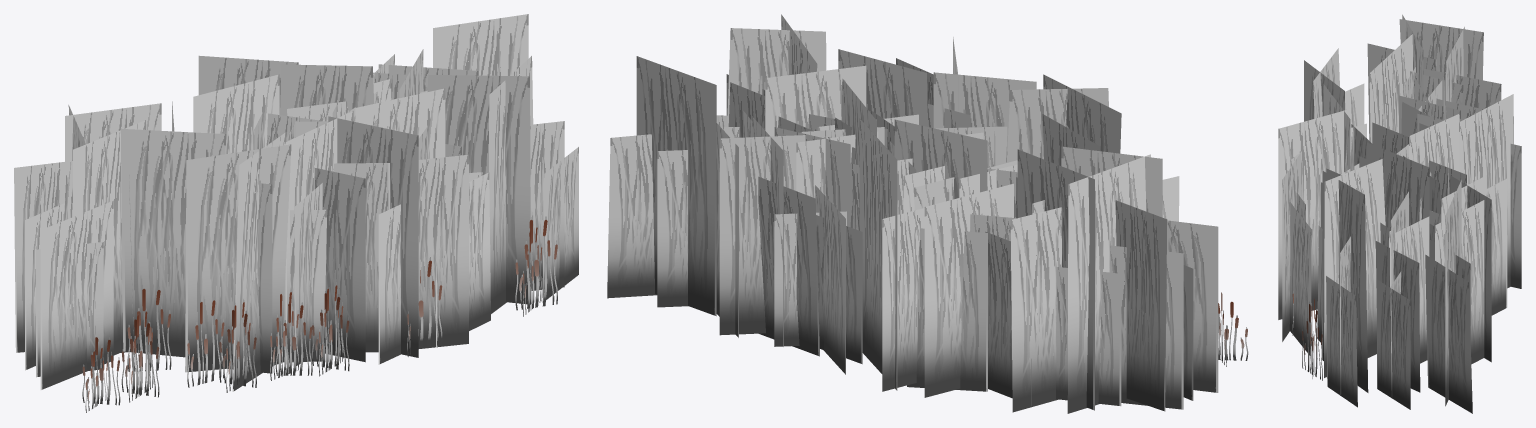
Rendered from Aqua Grass Composition2.fbx.
3 views of the same model, side by side, from view 1: azimuth 30°, elevation 25°; view 2: azimuth 150°, elevation 25°; view 3: azimuth 270°, elevation 25° (orthographic). The views are drawn at different scales.
Visible parts, largest first — view 1: Aqua Grass Composition2; view 2: Aqua Grass Composition2; view 3: Aqua Grass Composition2.
Part boxes in pixels (x1,y1,x2,y2): Aqua Grass Composition2: [14, 14, 578, 412]; Aqua Grass Composition2: [607, 14, 1248, 413]; Aqua Grass Composition2: [1278, 14, 1521, 413].
Size of the model in its own units: 9.17 by 3.84 by 4.18.
2 materials, 2 textured.
